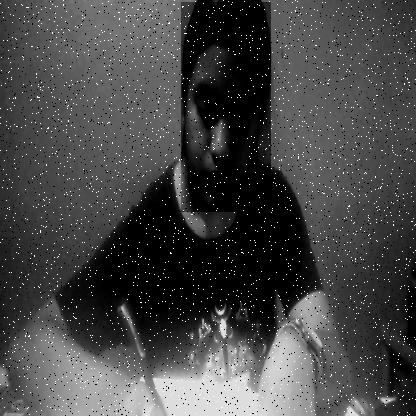Normal: (181, 3, 271, 212)
